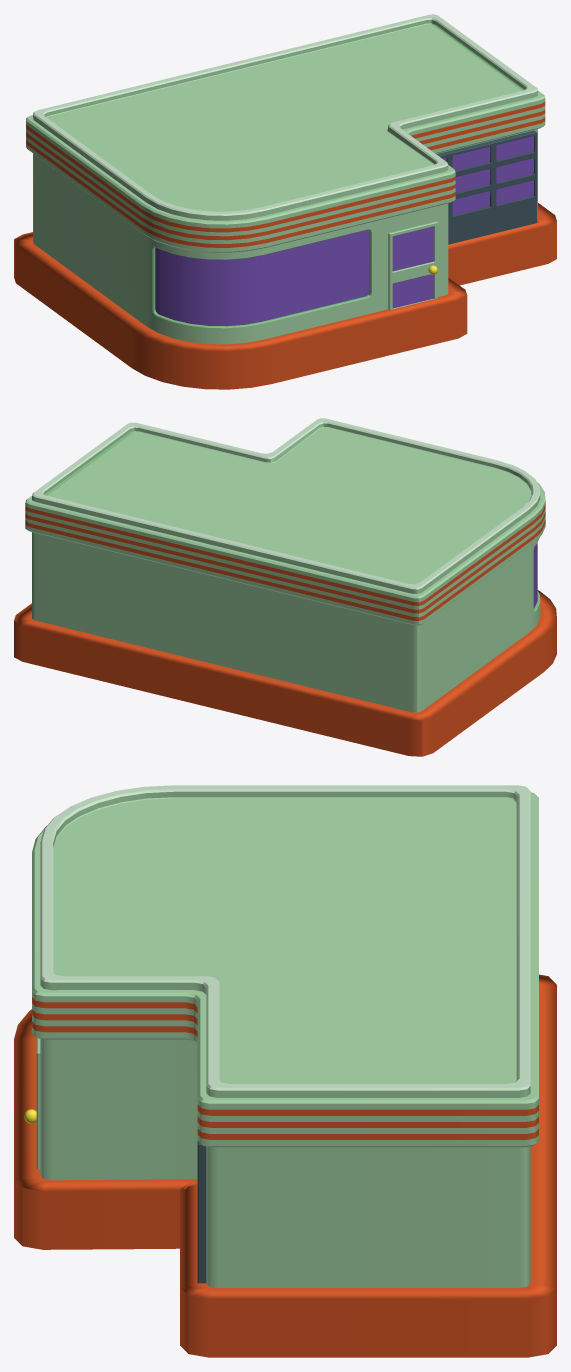
File: Building5.fbx
3 views of the same model, one above another, from view 1: azimuth 30°, elevation 25°; view 2: azimuth 150°, elevation 25°; view 3: azimuth 270°, elevation 25° (orthographic). The views are drawn at different scales.
Parts seen in each view (by area): view 1: Building5; view 2: Building5; view 3: Building5.
Boxes of the visible parts, left/top/right/bottom form: Building5: left=14, top=14, right=556, bottom=389; Building5: left=14, top=418, right=556, bottom=756; Building5: left=14, top=785, right=556, bottom=1357.
Bounding box in the file's own units: 1314 × 483 × 923.
Materials: 1 (1 with a texture image).
